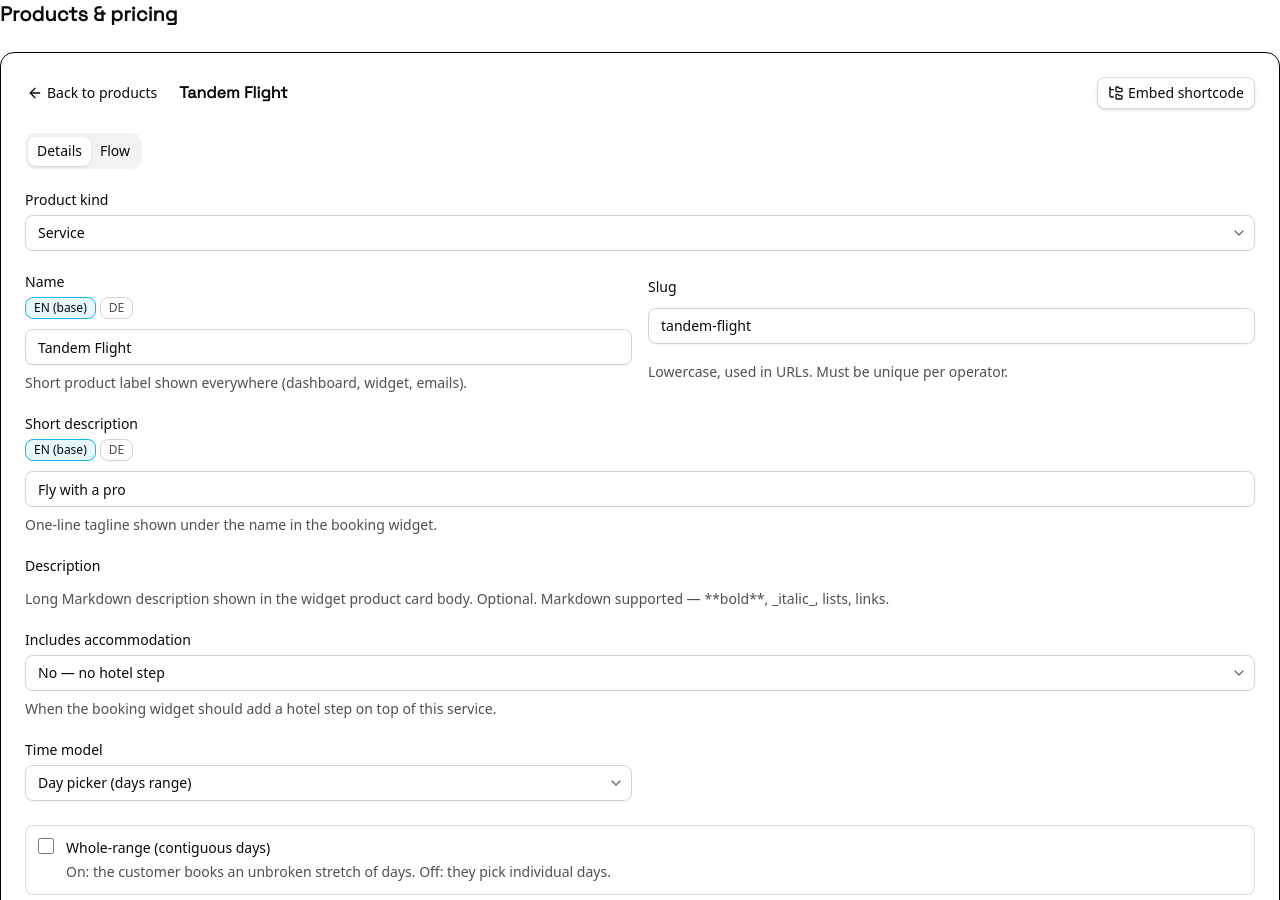
Products route › navigates back to the list when 'Back to products' is clicked (landr-li8e)
Check: the field labelled "Name" is shown, box [25,329,632,365]
Click the button "Back to products" at coordinates (92, 93), box [17,77,167,109]
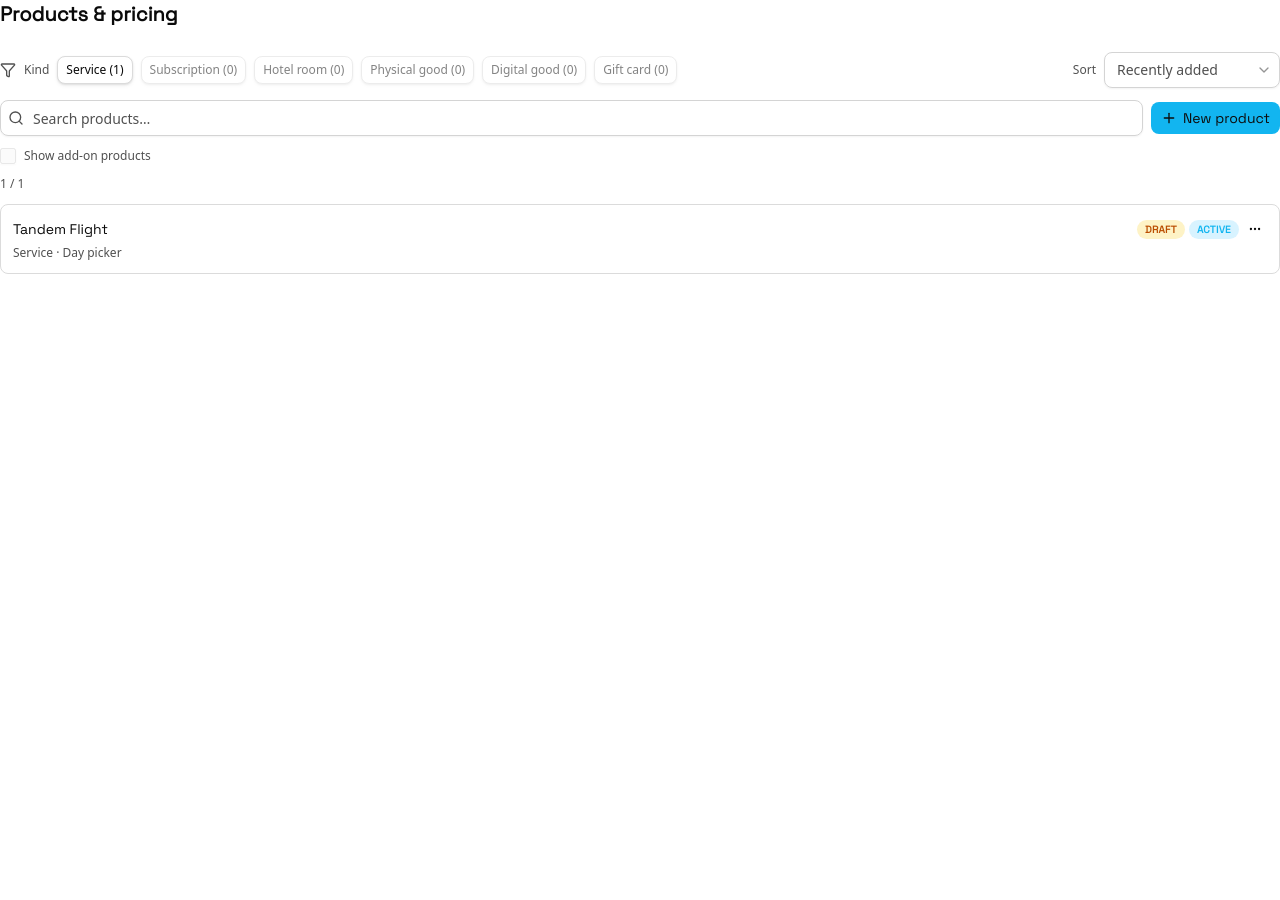
Check: the option "Tandem Flight Draft Active Service · Day picker" is shown, box [0,204,1279,274]
Check: the label labelled "Name" is gone
